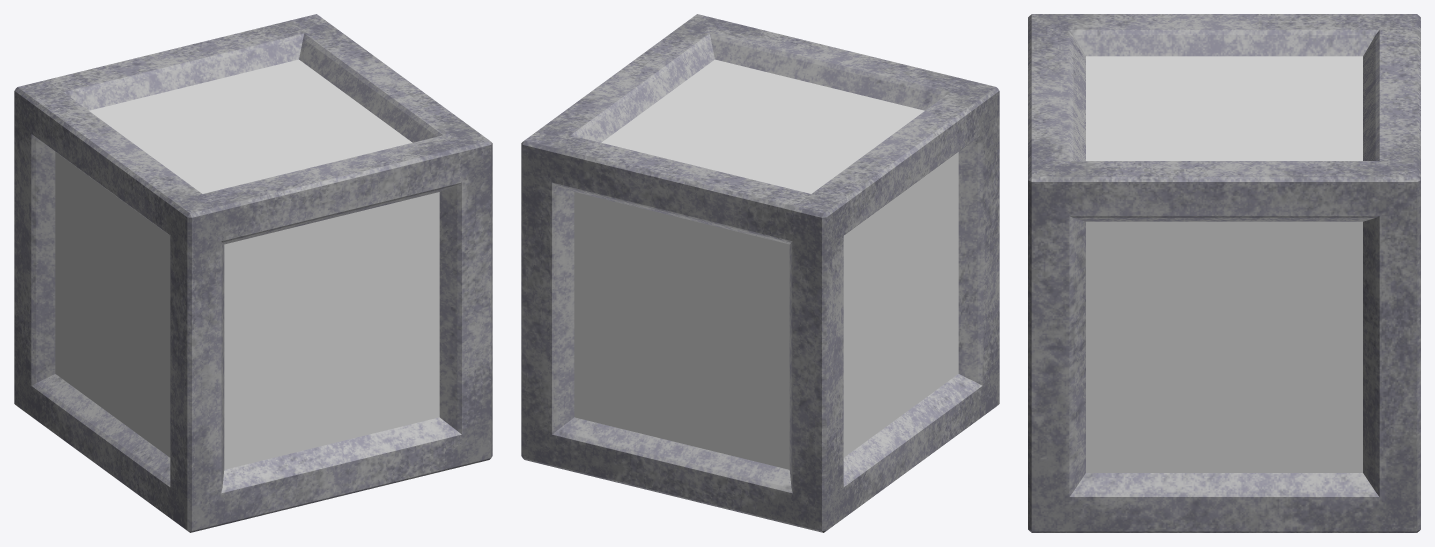
File: WPC.fbx
3 views of the same model, side by side, from view 1: azimuth 30°, elevation 25°; view 2: azimuth 150°, elevation 25°; view 3: azimuth 270°, elevation 25° (orthographic). The views are drawn at different scales.
Parts seen in each view (by area): view 1: Weighted Pressure Cube, NeonLight; view 2: Weighted Pressure Cube, NeonLight; view 3: Weighted Pressure Cube, NeonLight.
Boxes of the visible parts, x1,y1,x2,y2 form: Weighted Pressure Cube: [14, 14, 492, 532]; NeonLight: [55, 59, 439, 469]; Weighted Pressure Cube: [521, 14, 999, 532]; NeonLight: [574, 59, 958, 469]; Weighted Pressure Cube: [1028, 14, 1420, 532]; NeonLight: [1086, 56, 1362, 472].
Bounding box in the file's own units: 200 × 200 × 200.
